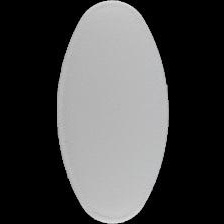70786-0256: (0, 0, 224, 224)
